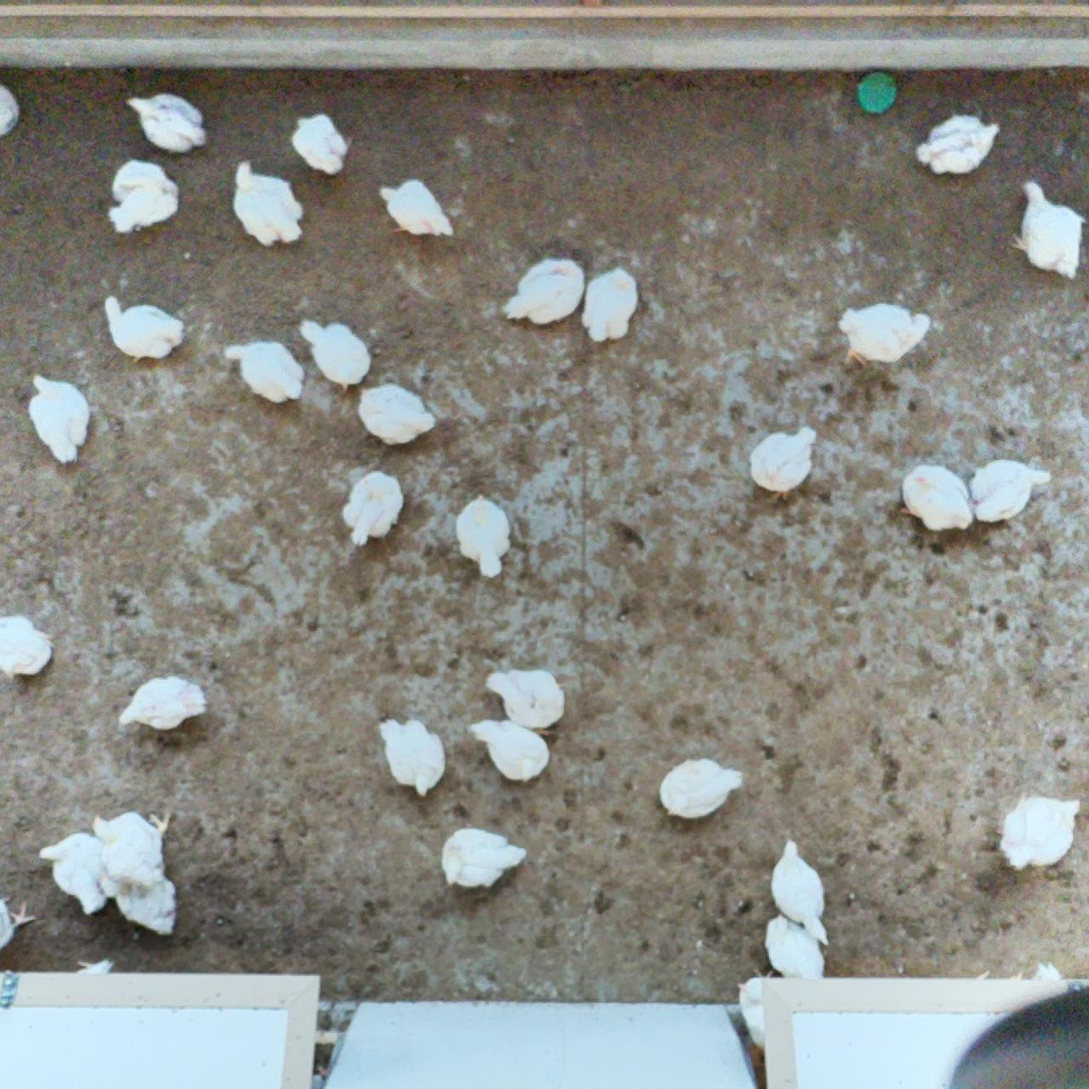chicken: (1008, 177, 1087, 284), (989, 789, 1085, 873), (834, 299, 936, 373), (768, 838, 835, 949), (483, 664, 578, 742), (20, 367, 93, 467), (371, 711, 451, 801), (435, 823, 531, 896), (89, 802, 173, 885), (496, 250, 585, 328), (101, 290, 187, 370), (896, 461, 981, 541), (232, 157, 307, 246), (94, 868, 183, 943), (914, 109, 1003, 182), (296, 314, 374, 396), (466, 716, 552, 789), (122, 86, 211, 156), (36, 833, 110, 917), (112, 671, 209, 735), (657, 753, 745, 823), (101, 157, 184, 231), (745, 423, 821, 503), (221, 338, 308, 407), (450, 490, 516, 580), (971, 454, 1055, 524), (337, 469, 407, 551), (377, 176, 455, 247), (358, 381, 439, 449), (762, 913, 831, 984), (583, 263, 639, 347), (732, 966, 778, 1052), (0, 616, 58, 684), (290, 112, 352, 175)
